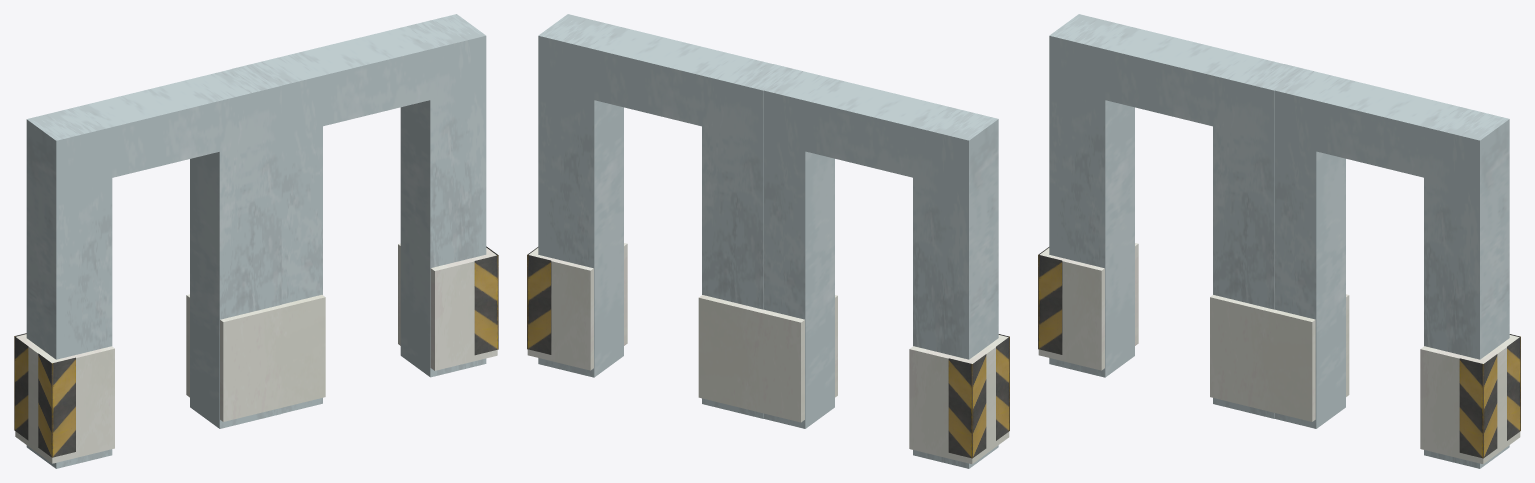
Rendered from door_double_wall.fbx.
3 renders of one model, left to right at view 1: azimuth 30°, elevation 25°; view 2: azimuth 150°, elevation 25°; view 3: azimuth 330°, elevation 25°, orthographic.
Parts seen in each view (by area): view 1: strip.011; view 2: strip.011; view 3: strip.011.
Part boxes in pixels (box(x1,y1,x2,y2)): strip.011: box(14, 14, 498, 468); strip.011: box(527, 14, 1009, 468); strip.011: box(1038, 14, 1520, 468).
Size of the model in its own units: 562 by 395 by 83.77.
Materials: 2 (2 with a texture image).
